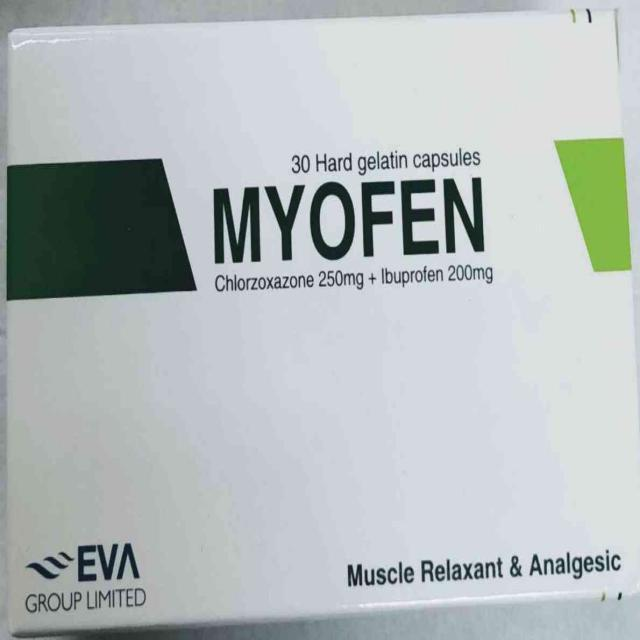drug-name: (212, 176, 489, 262)
